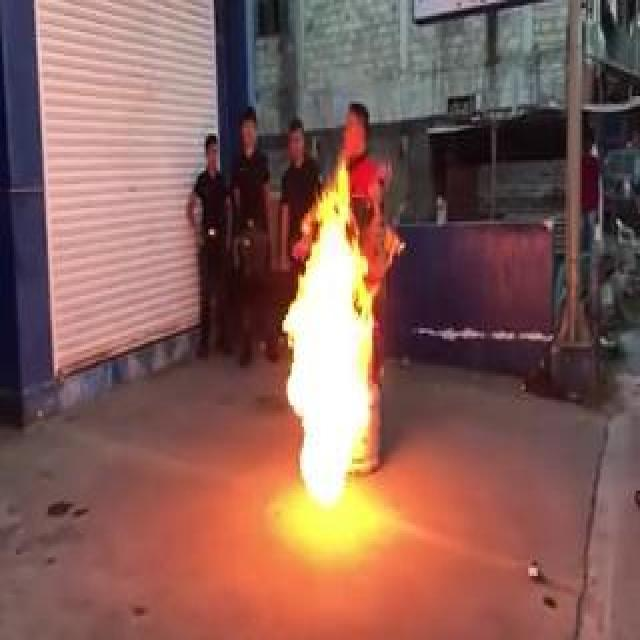Fire: (281, 156, 375, 513)
